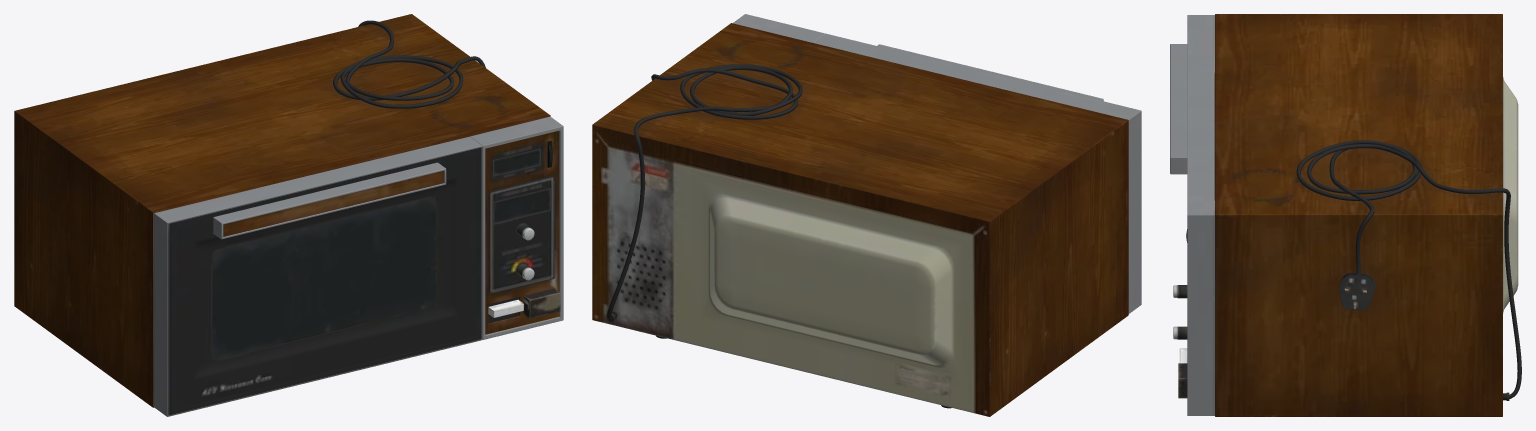
Rendered from vintage_microwave.glb.
3 renders of one model, left to right at view 1: azimuth 30°, elevation 25°; view 2: azimuth 150°, elevation 25°; view 3: azimuth 270°, elevation 25°, orthographic. The views are drawn at different scales.
Parts seen in each view (by area): view 1: vintage_microwave; view 2: vintage_microwave; view 3: vintage_microwave.
Part boxes in pixels (<box>): vintage_microwave: <box>14,14,563,416</box>; vintage_microwave: <box>592,14,1141,416</box>; vintage_microwave: <box>1170,14,1521,416</box>.
Bounding box in the file's own units: 1.07 × 0.5258 × 0.7456.
2 materials, 2 textured.
